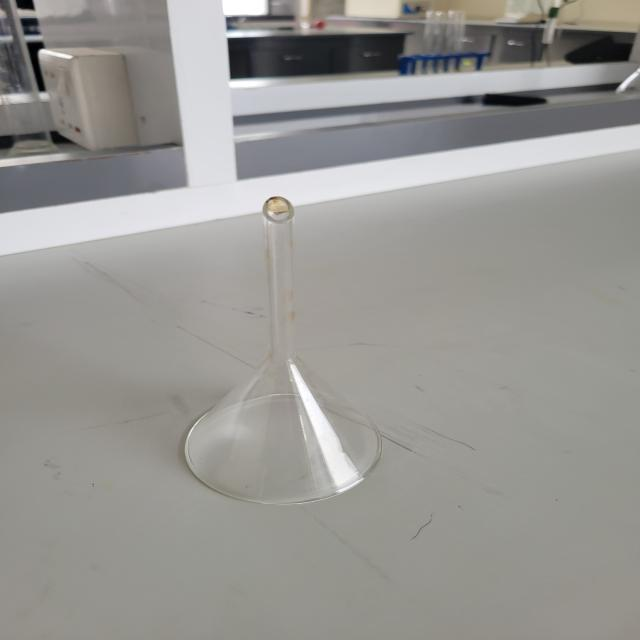Funnel: (114, 153, 410, 550)
